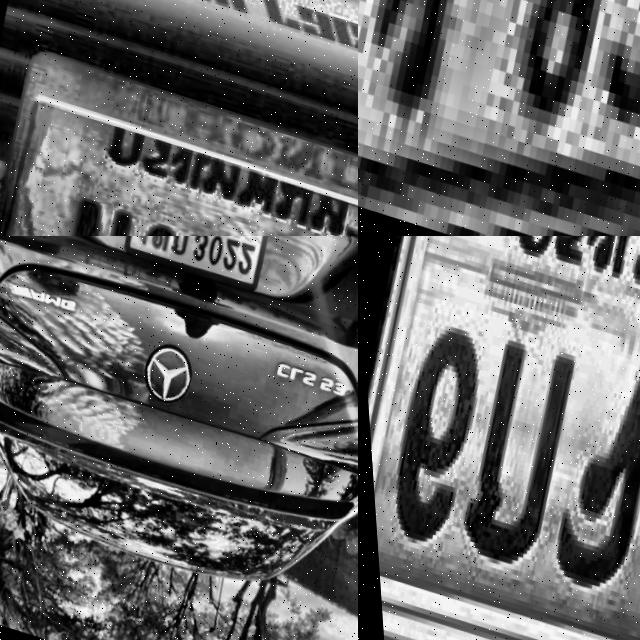license-plate: (358, 236, 640, 640), (0, 24, 358, 236), (358, 0, 640, 236), (115, 236, 274, 292)
